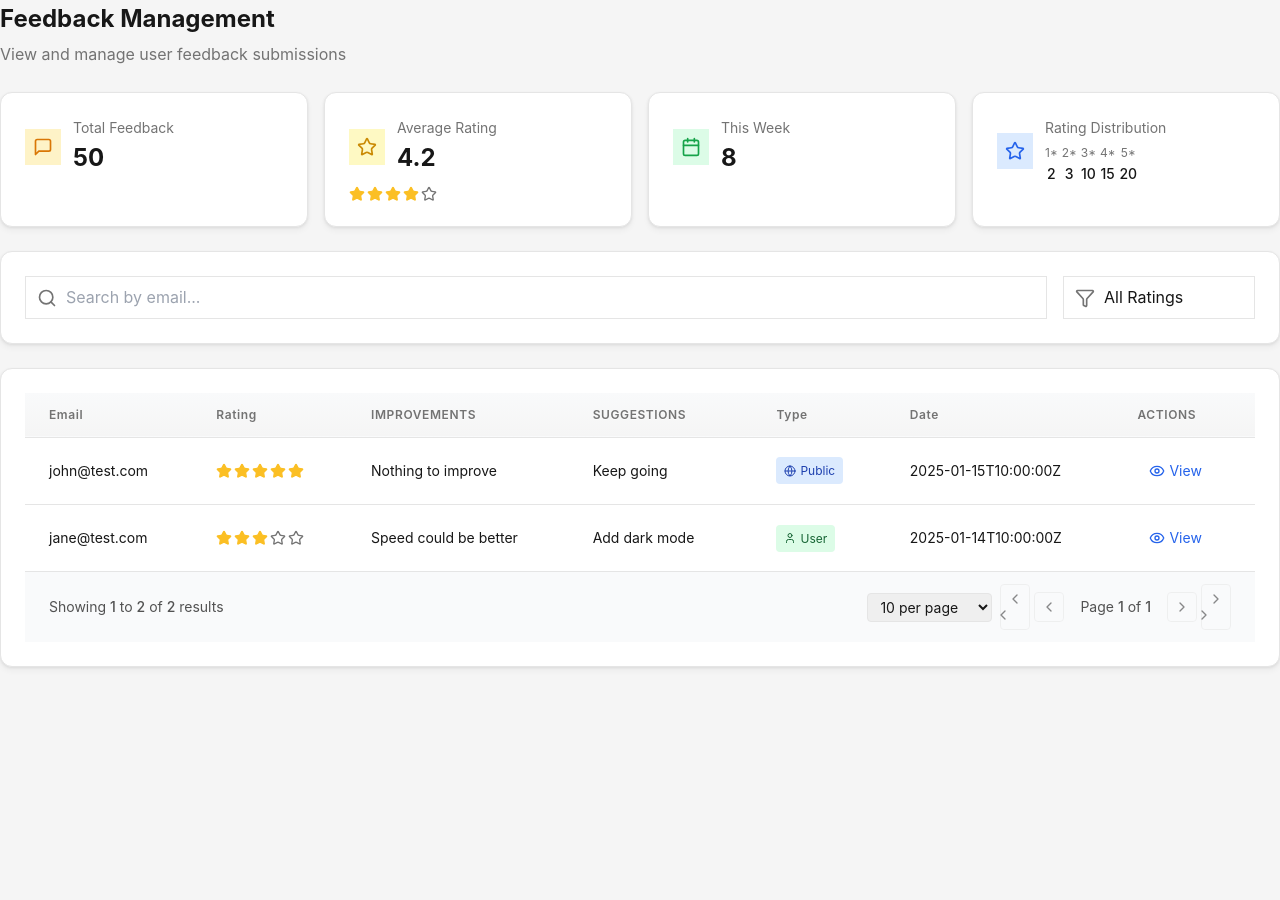
Scenario: FeedbackManagement › closes detail modal
The image size is (1280, 900).
Check: the text "john@test.com" is shown, box [25,437,192,504]
// Open detail modal
Click the button "View" in the row of "john@test.com": (1176, 471) [1137,454,1214,488]
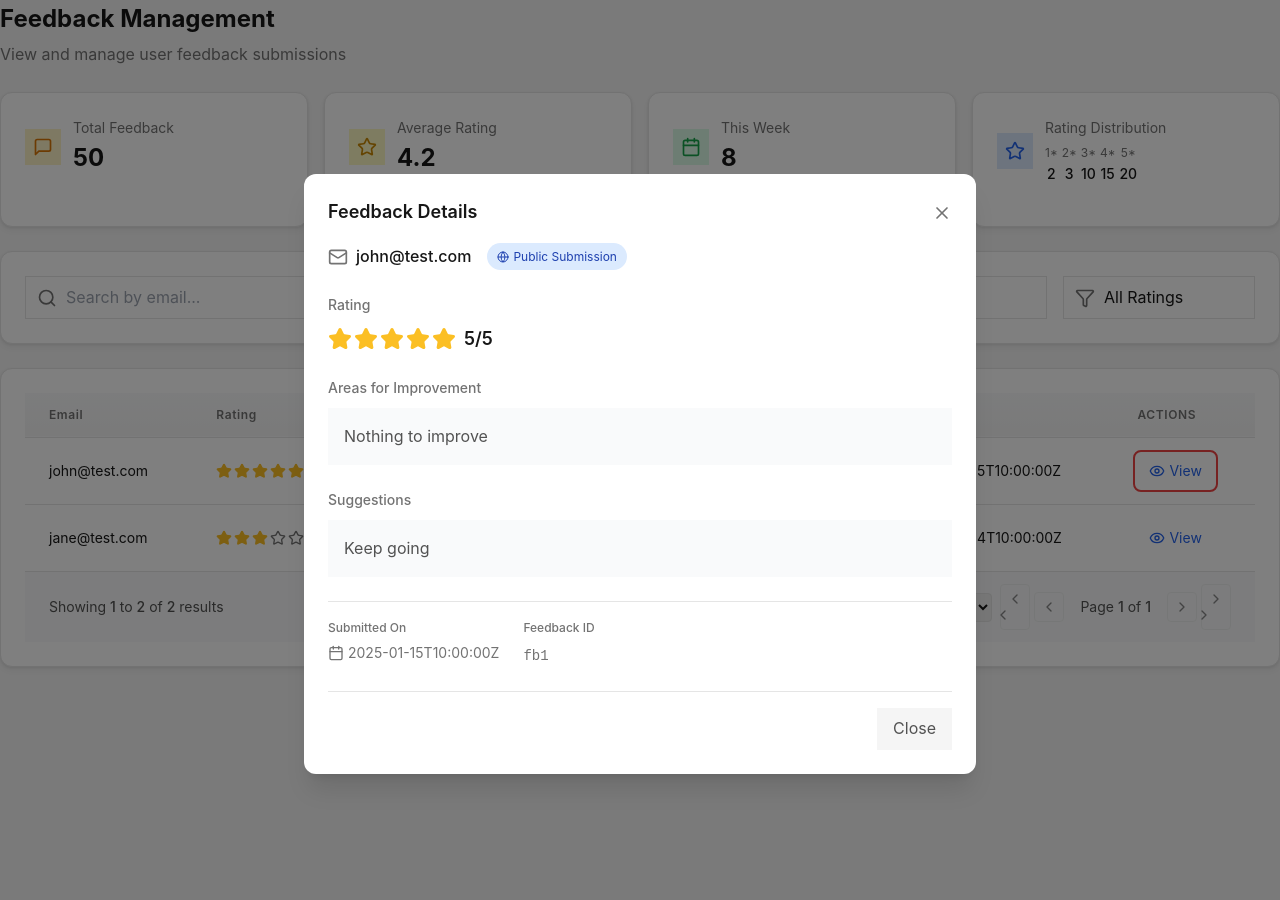
Check: the heading "Feedback Details" is shown, box [328,198,477,227]
// Close modal
Click the button "Close": (915, 729) [877,708,952,750]
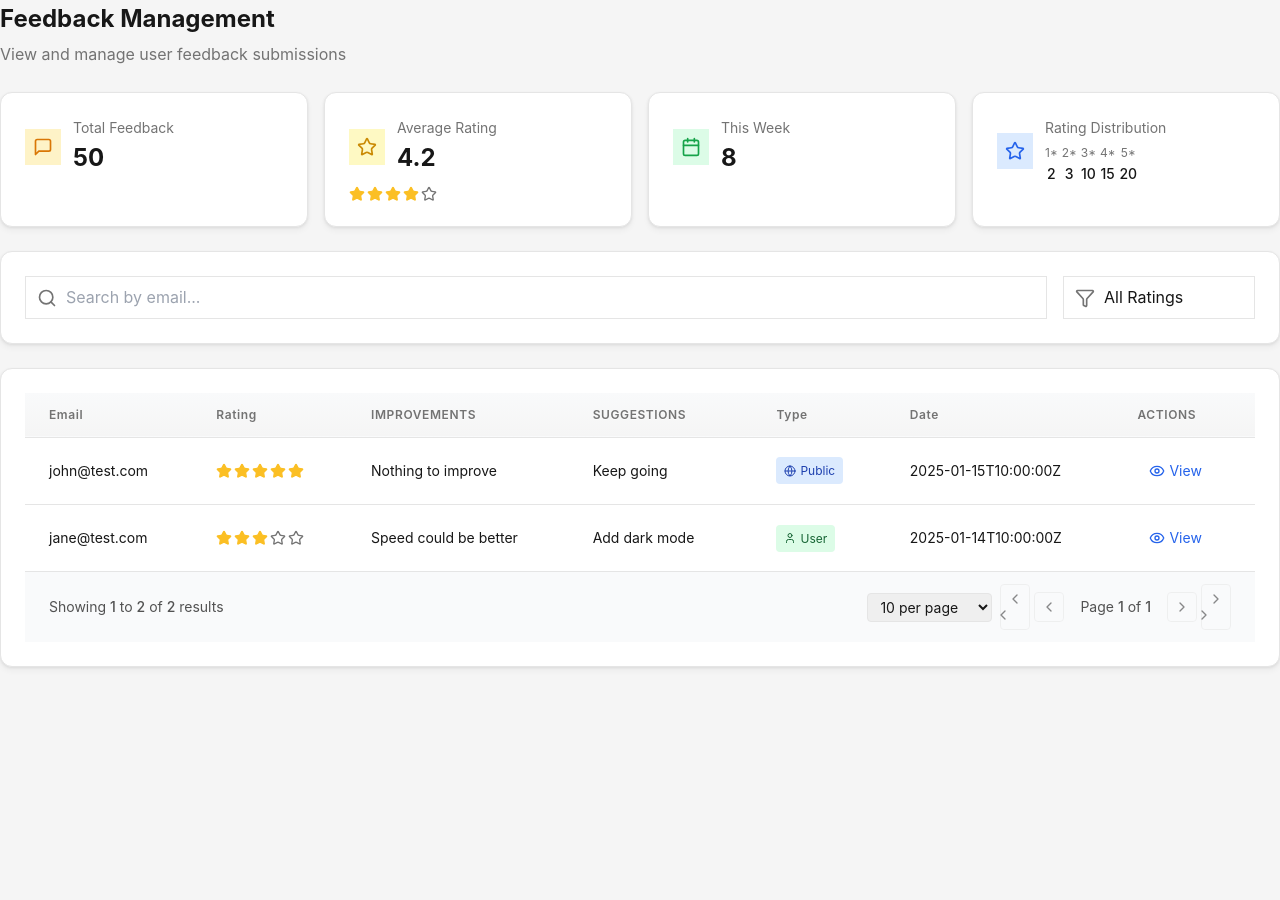
Check: the heading "Feedback Details" is gone
